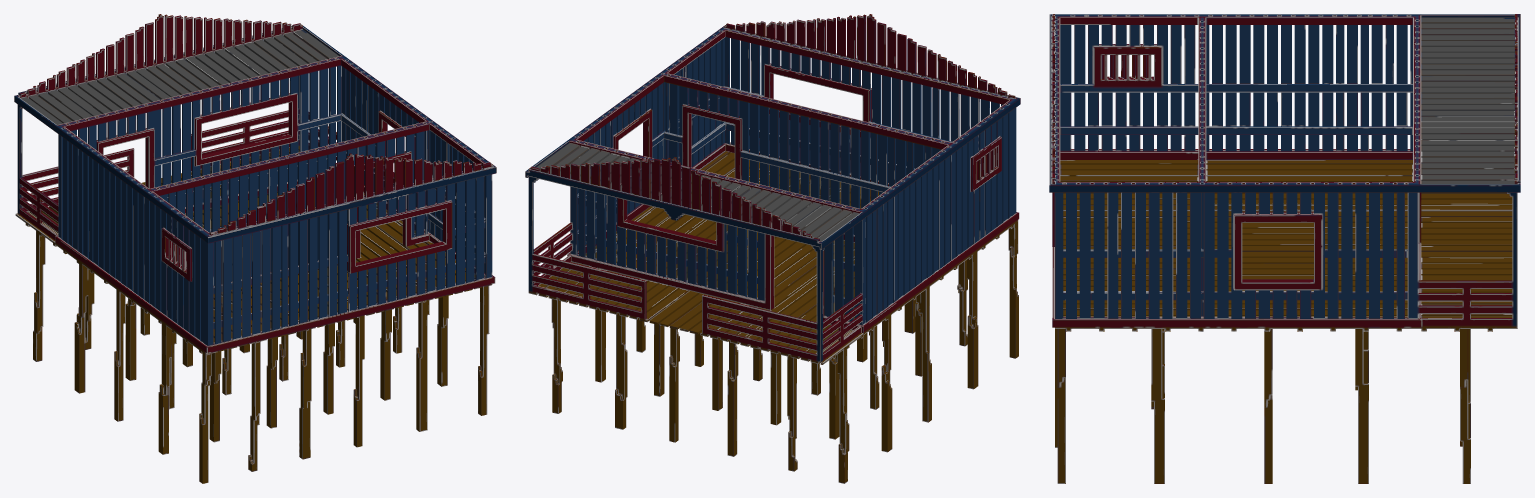
The model's file is Casa Buri - VersãoNanda-0.fbx.
3 renders of one model, left to right at view 1: azimuth 30°, elevation 25°; view 2: azimuth 150°, elevation 25°; view 3: azimuth 270°, elevation 25°, orthographic. The views are drawn at different scales.
Visible parts, largest first — view 1: Casa Buri - VersãoNanda-0.001; view 2: Casa Buri - VersãoNanda-0.001; view 3: Casa Buri - VersãoNanda-0.001.
Boxes of the visible parts, x1,y1,x2,y2 form: Casa Buri - VersãoNanda-0.001: (14,14,496,483); Casa Buri - VersãoNanda-0.001: (525,14,1020,483); Casa Buri - VersãoNanda-0.001: (1049,14,1520,483).
Bounding box in the file's own units: 14.8 × 14.4 × 17.1.
1 material, 1 textured.
